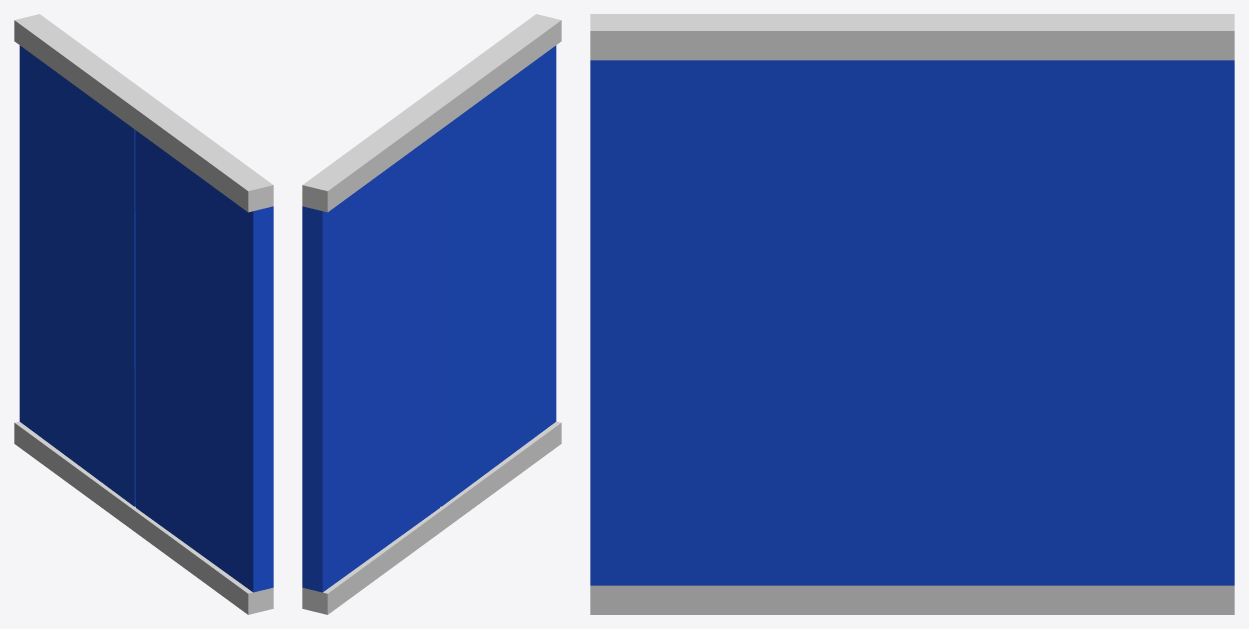
Rendered from Window.fbx.
The picture shows the model from 3 angles, left to right: view 1: azimuth 30°, elevation 25°; view 2: azimuth 150°, elevation 25°; view 3: azimuth 270°, elevation 25°; orthographic projection. The views are drawn at different scales.
Parts seen in each view (by area): view 1: Window Frame; view 2: Window Frame; view 3: Window Frame.
Part boxes in pixels (bbox=[...]): Window Frame: bbox=[14, 14, 273, 614]; Window Frame: bbox=[302, 14, 561, 614]; Window Frame: bbox=[590, 14, 1234, 614].
Size of the model in its own units: 25 by 400 by 400.
